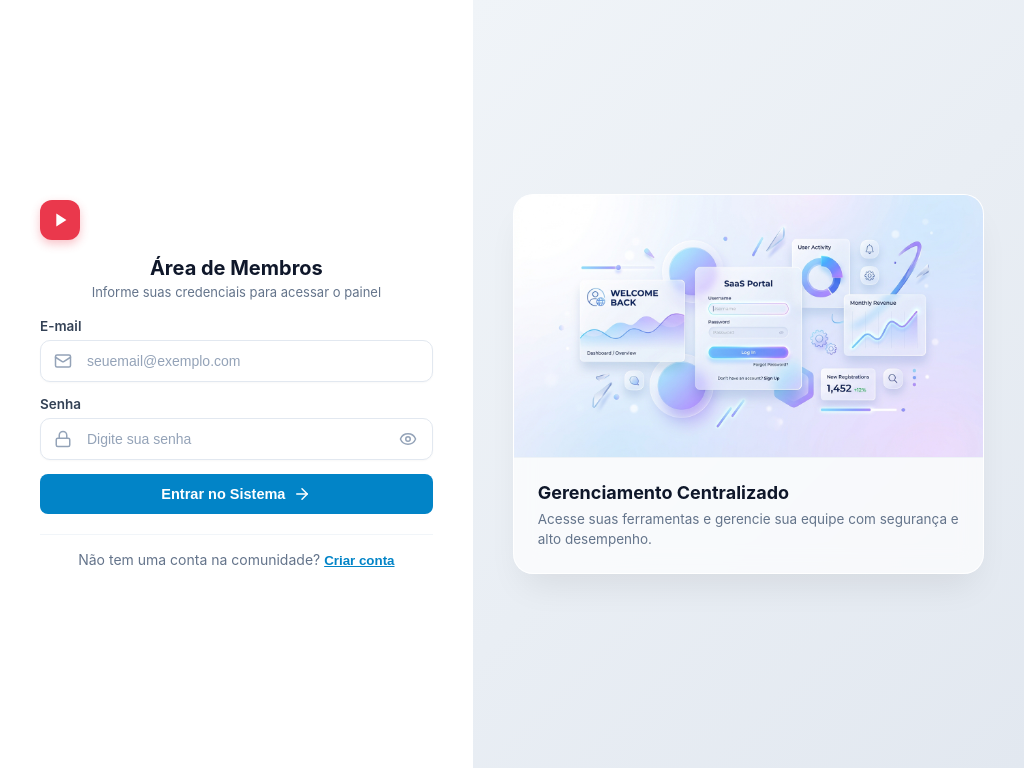
Scenario: Login Component › shows error banner when passwords do not match
Click the button with test id "go-to-register-btn". click: (359, 560)
box: [324,553,394,568]
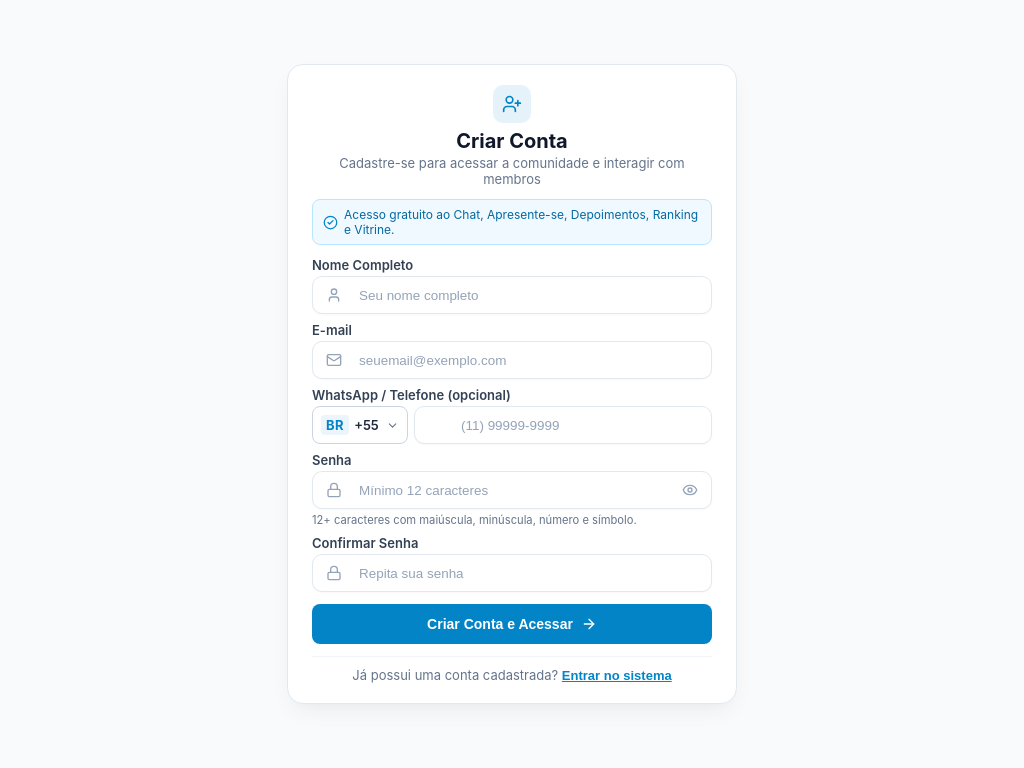
Type "Aluno Teste" into the field with test id "register-name-input". click: (512, 295)
box: [312,276,712,314]
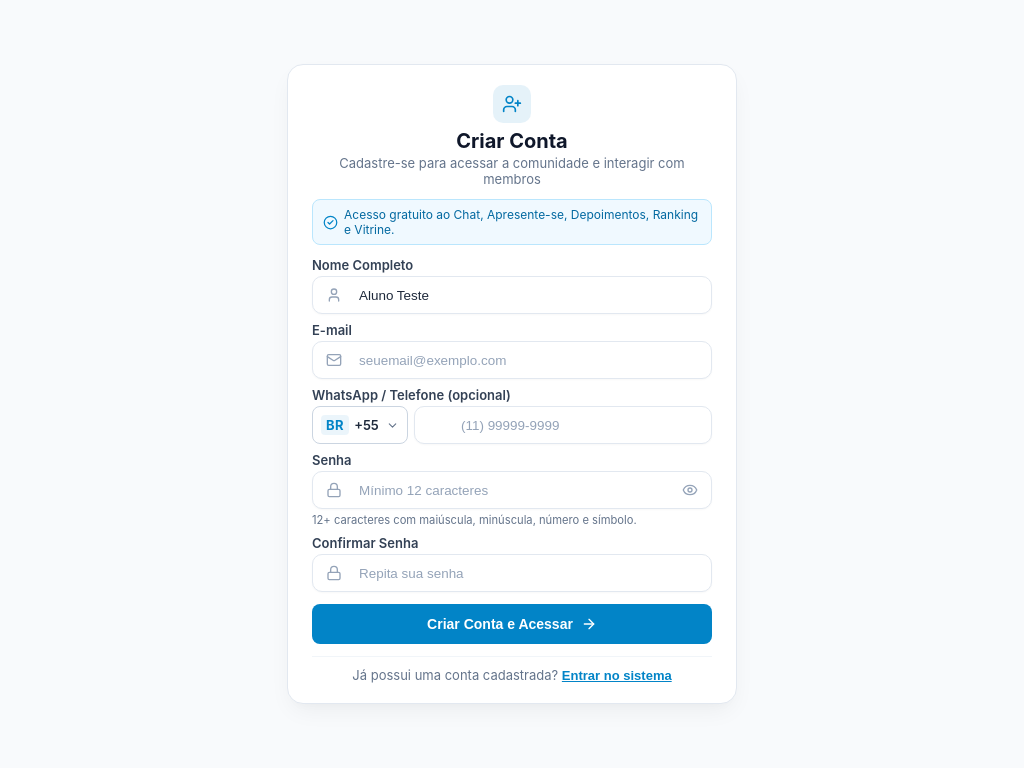
Type "aluno@teste.com" into the field with test id "register-email-input". click: (512, 360)
box: [312,341,712,379]
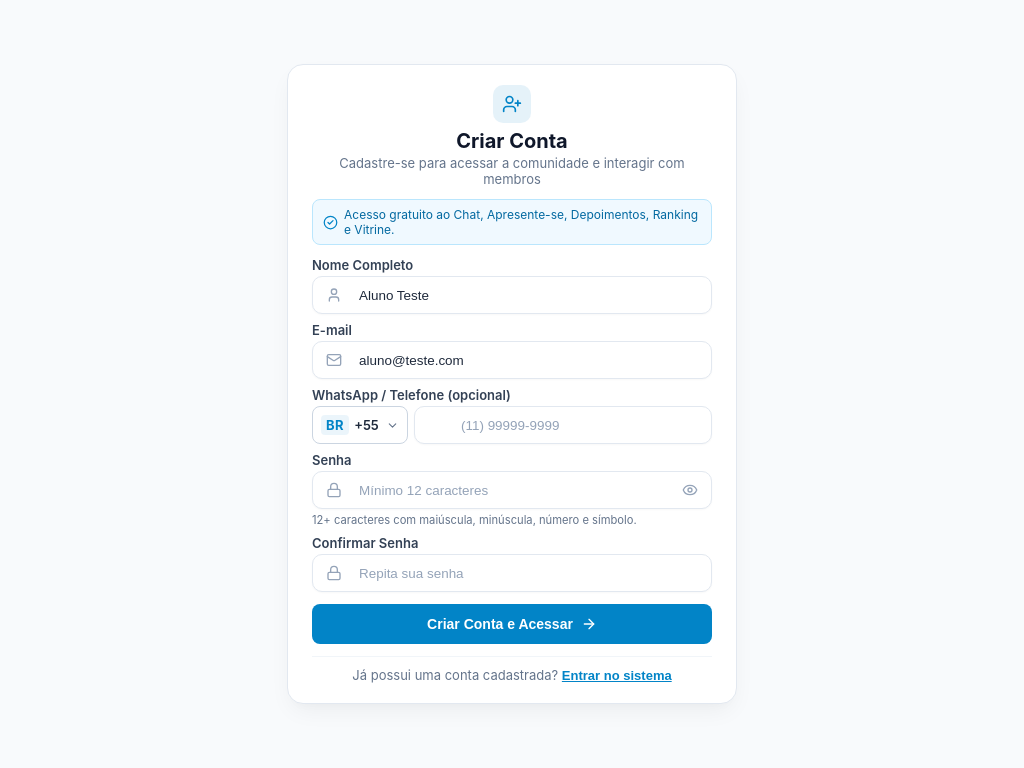
Type "SenhaSegura123!@" into the password field with test id "register-password-input". click: (512, 490)
box: [312,471,712,509]
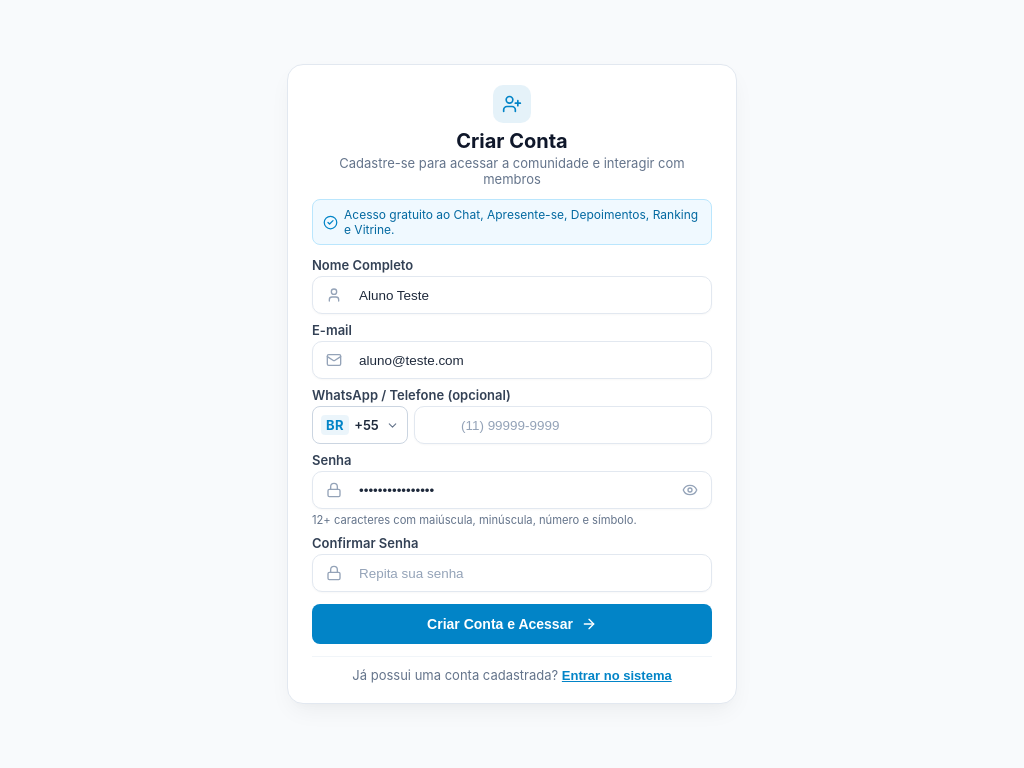
Type "OutraSenha123!@" into the password field with test id "register-confirm-password-input". click: (512, 573)
box: [312,554,712,592]
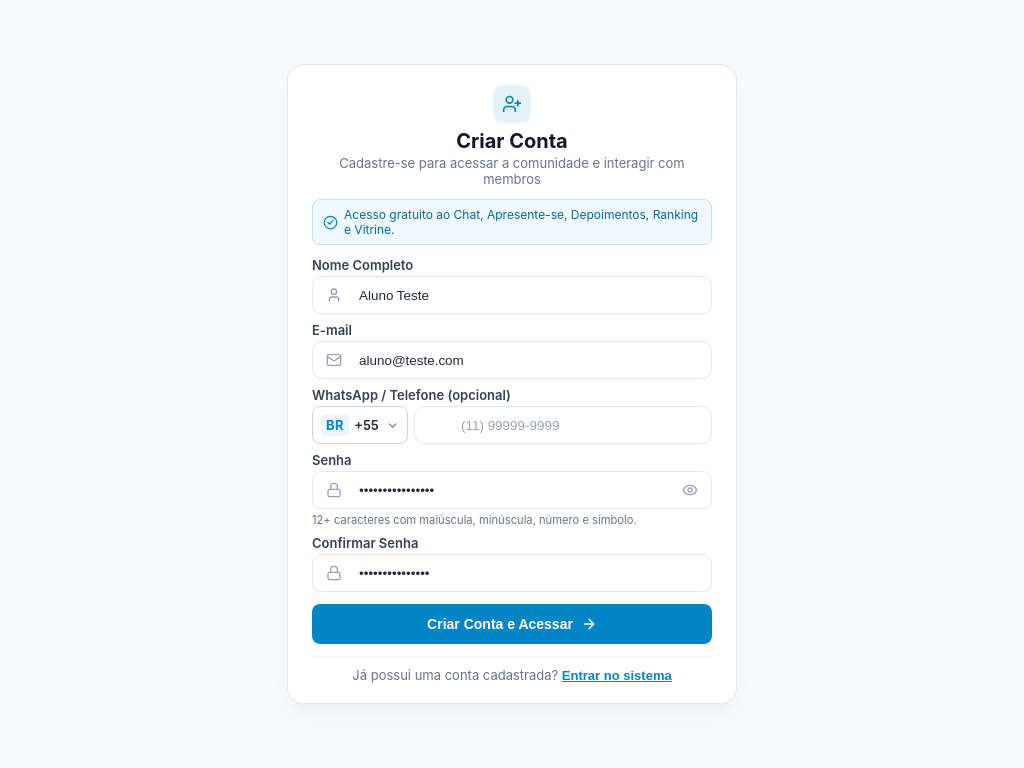
Click the button with test id "register-submit-btn". click: (512, 624)
box: [312,604,712,644]
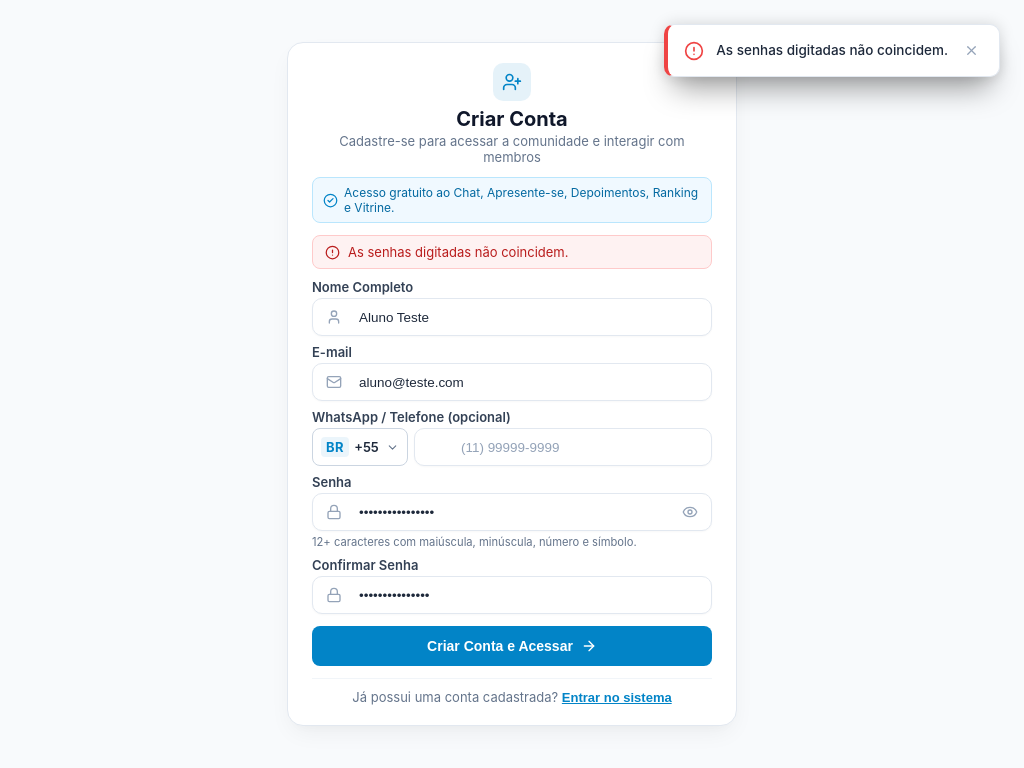
Check: the element with test id "register-error" reads "As senhas digitadas não coincidem.", box [348,244,568,260]
